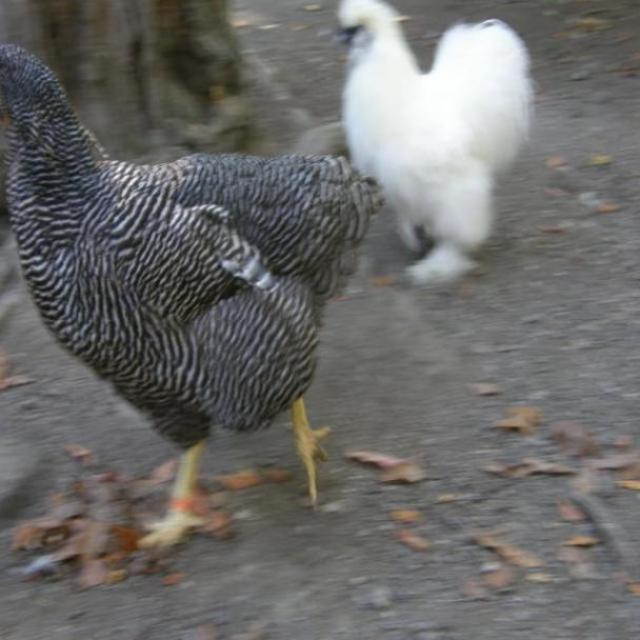Chicken: (0, 36, 388, 568), (332, 0, 539, 296)
